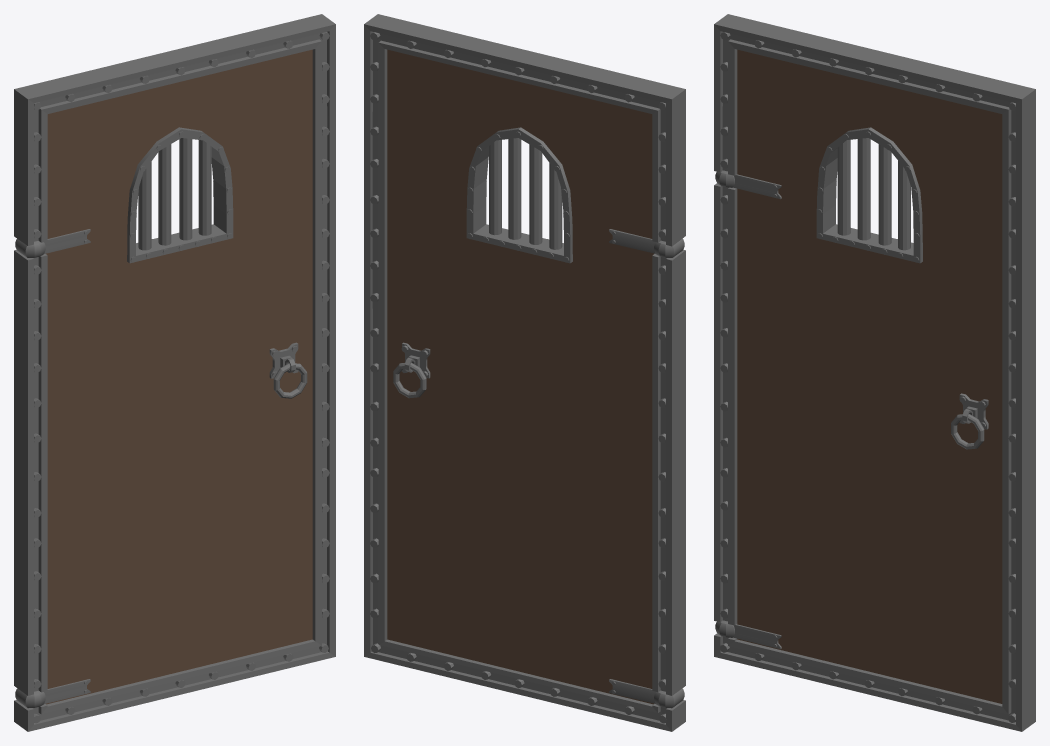
The model's file is Level_Door_Standard_low.fbx.
The picture shows the model from 3 angles, left to right: view 1: azimuth 30°, elevation 25°; view 2: azimuth 150°, elevation 25°; view 3: azimuth 330°, elevation 25°; orthographic projection.
Parts seen in each view (by area): view 1: Level_Door_Standard_low; view 2: Level_Door_Standard_low; view 3: Level_Door_Standard_low.
Part boxes in pixels (x1,y1,x2,y2): Level_Door_Standard_low: (14, 14, 335, 731); Level_Door_Standard_low: (364, 14, 685, 731); Level_Door_Standard_low: (714, 14, 1035, 731).
Size of the model in its own units: 108 by 212 by 17.34.
